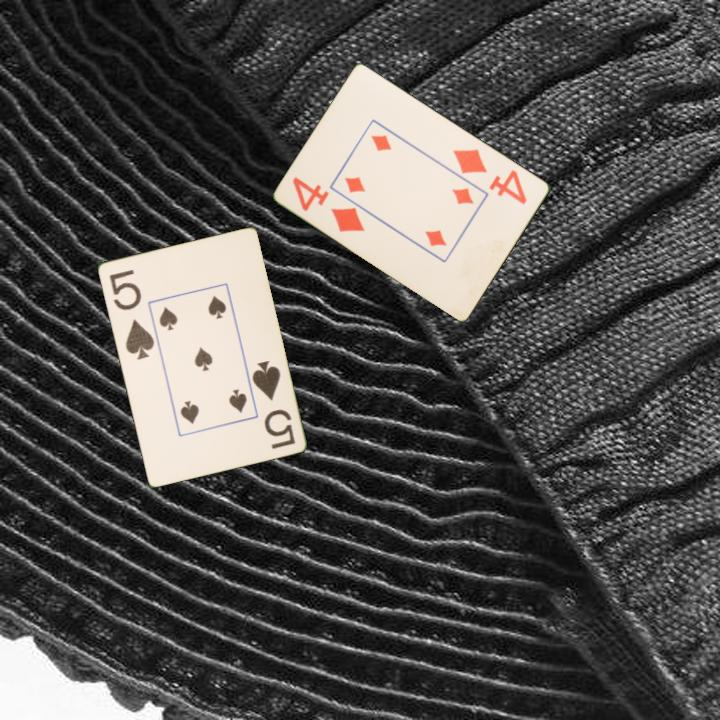4d: (450, 145, 530, 207), (289, 173, 368, 235)
5s: (105, 266, 157, 363), (248, 356, 298, 452)
